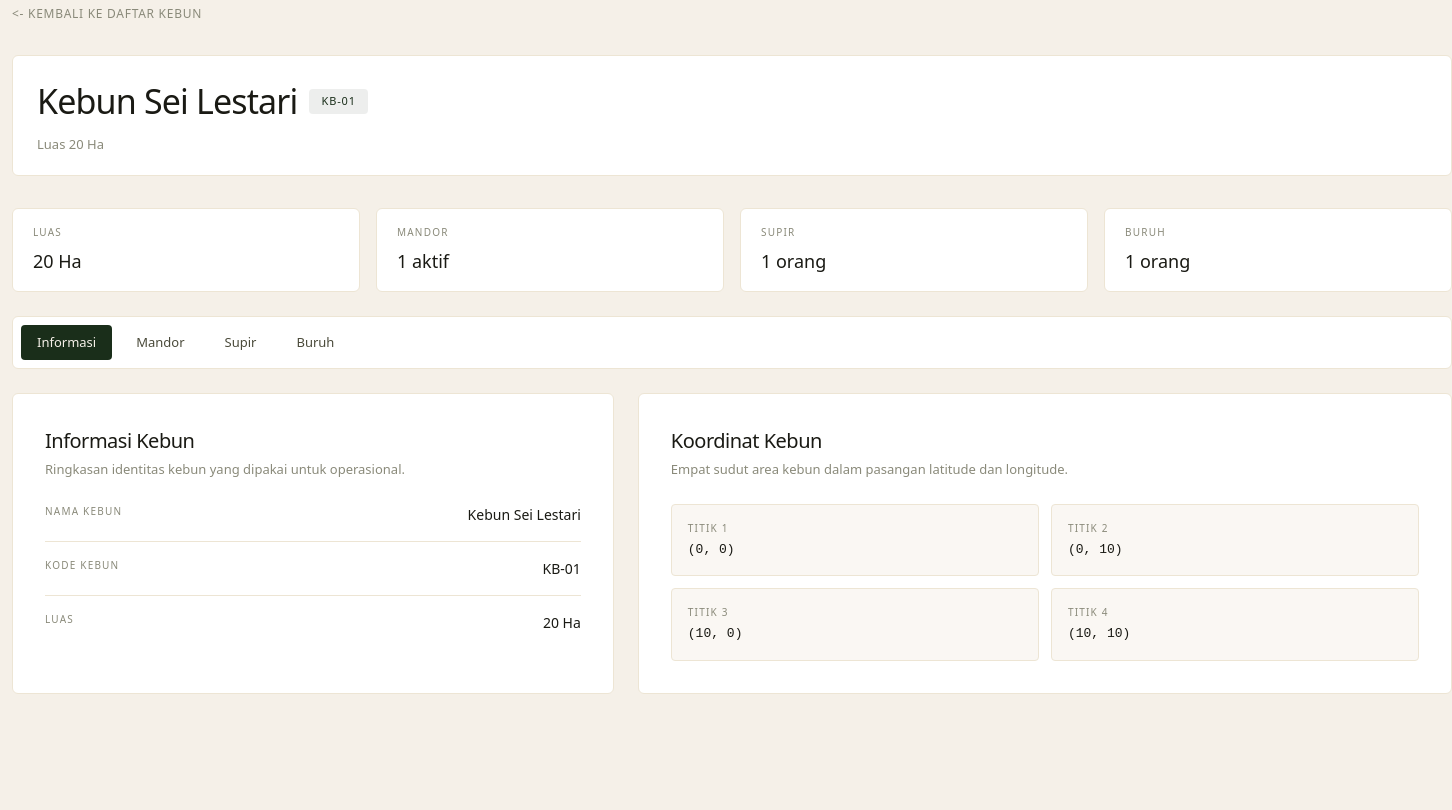
KebunDetailPage › renders kebun detail, mandor, supir, and buruh sections
This screenshot has width=1452, height=810.
Expected: the heading "Kebun Sei Lestari" is shown, [37,76,298,127]
Expected: the text "Luas 20 Ha" is shown, [37,135,104,153]
Click the button "Mandor". click: (160, 342)
box: [120,324,201,360]
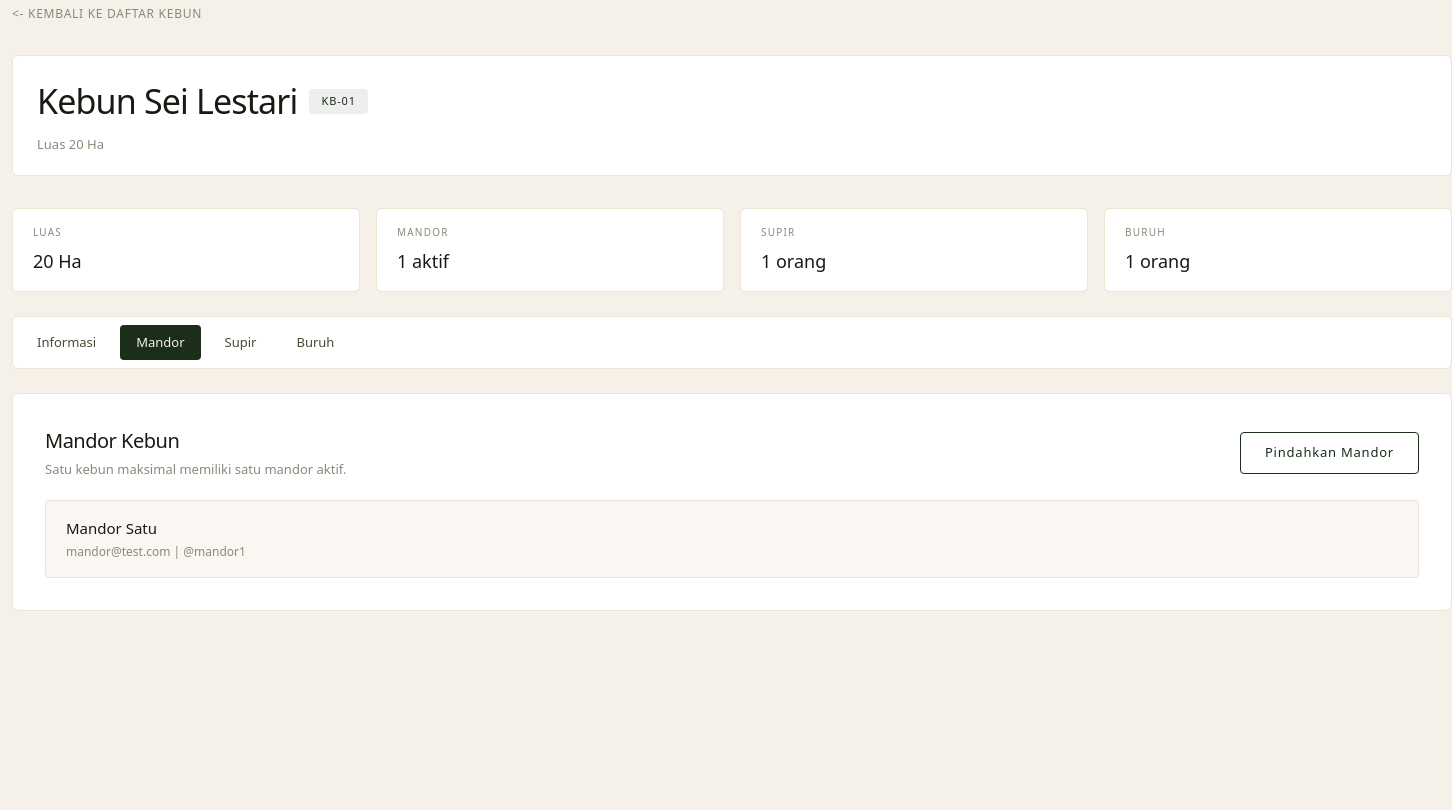
Result: the heading "Mandor Kebun" is shown at [45,427,179,454]
Result: the text "Mandor Satu" is shown at [66,518,157,538]
Result: the button "Pindahkan Mandor" is shown at [1240,432,1419,474]
Click the button "Supir". click: (240, 342)
box: [208,324,272,360]
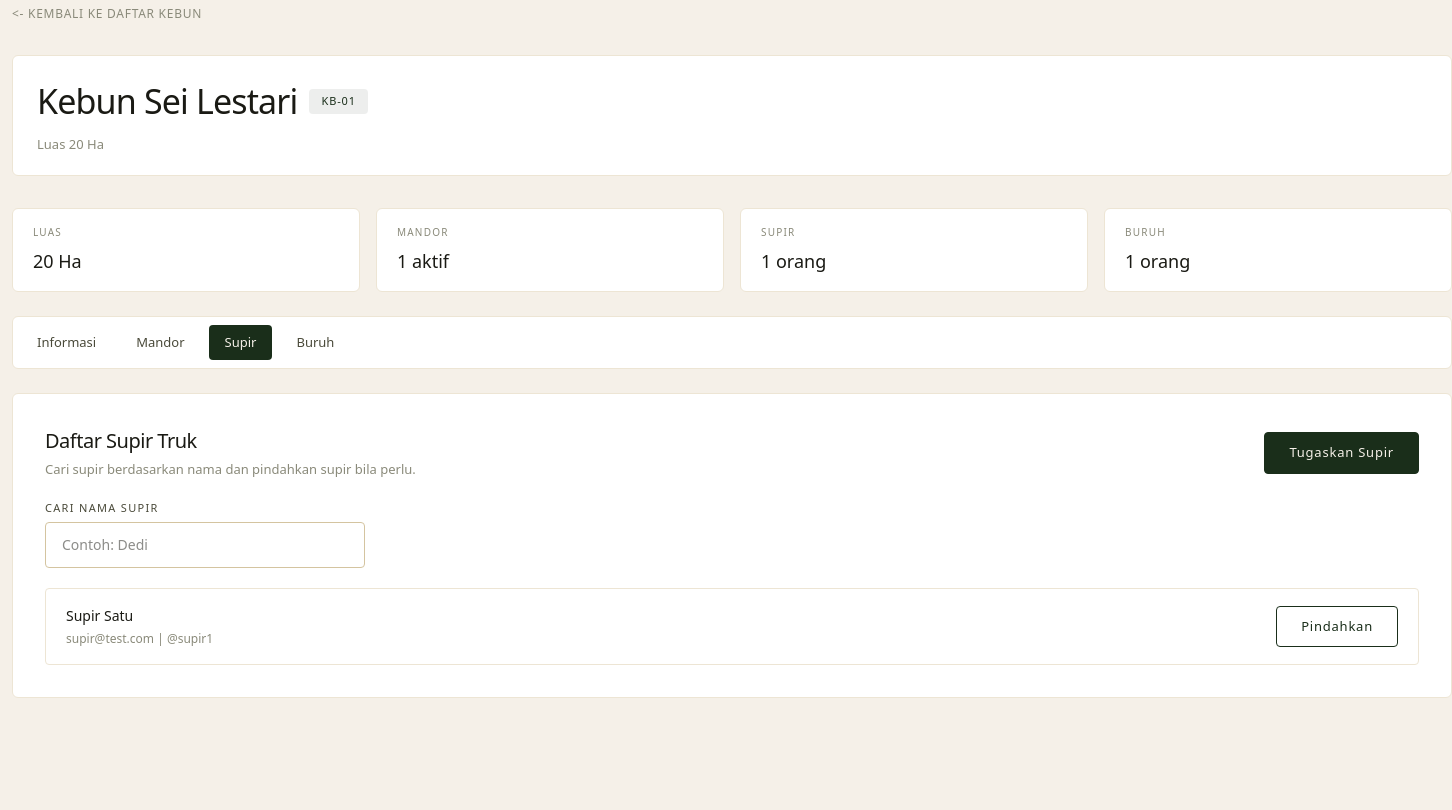
Result: the heading "Daftar Supir Truk" is shown at [45,427,197,454]
Result: the text "Supir Satu" is shown at [66,606,133,625]
Result: the button "Tugaskan Supir" is shown at [1264,432,1419,474]
Click the button "Buruh". click: (315, 342)
box: [280,324,350,360]
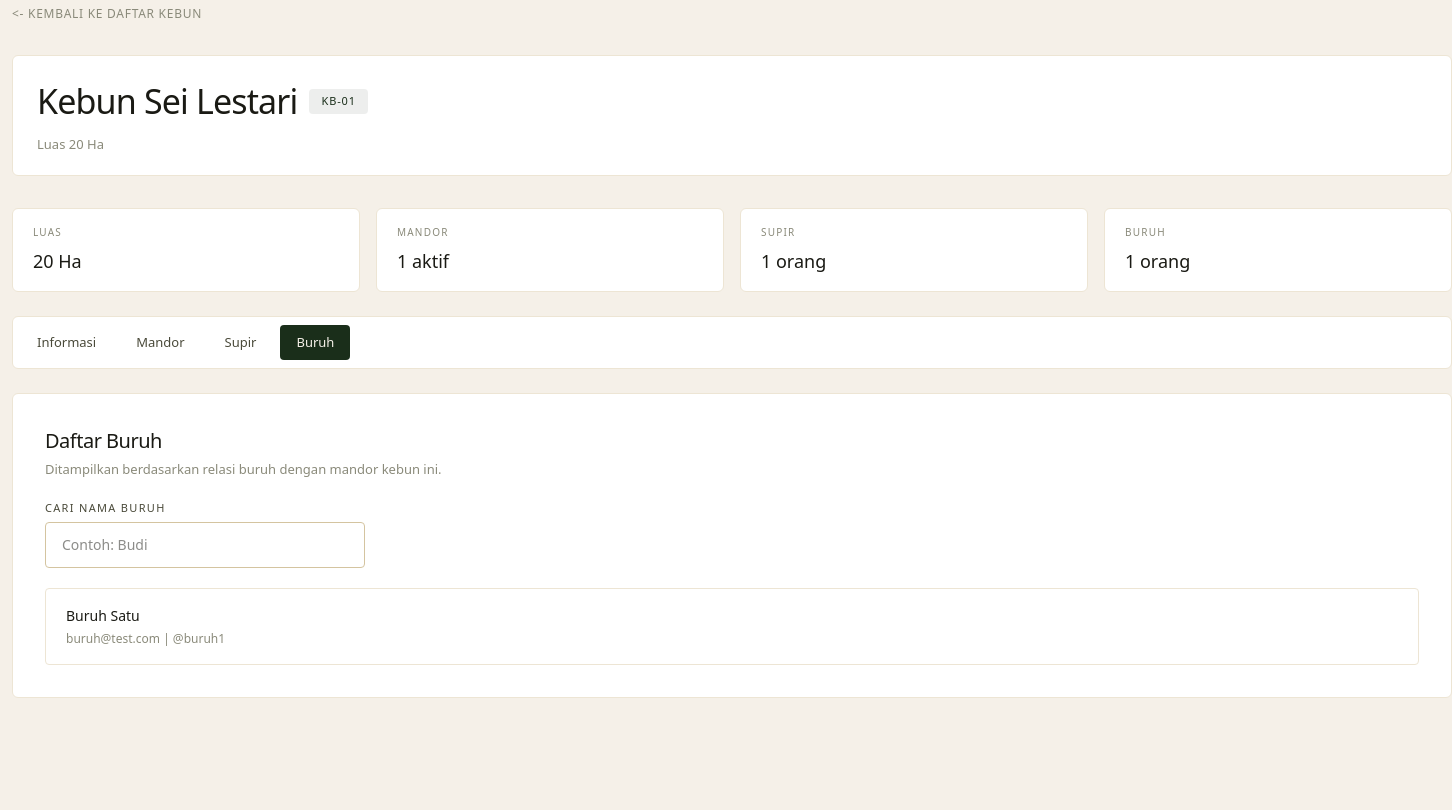
Result: the heading "Daftar Buruh" is shown at [45,427,162,454]
Result: the text "Buruh Satu" is shown at [66,606,140,625]
